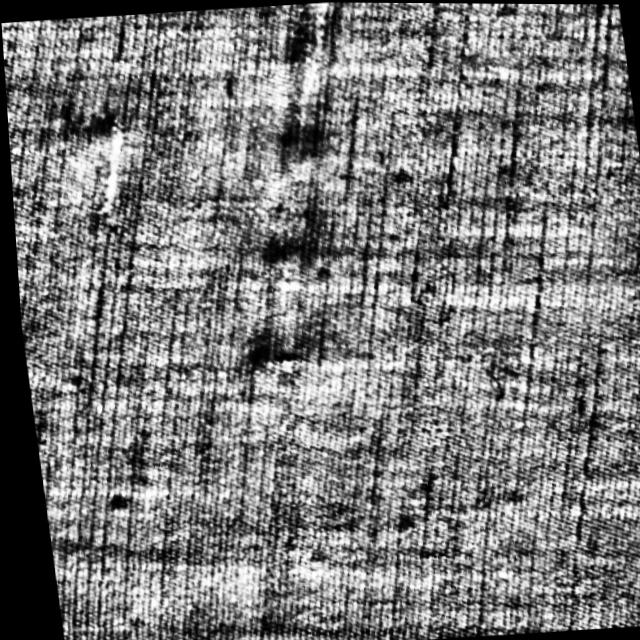Stitch: (188, 1, 387, 370), (73, 112, 135, 219)
